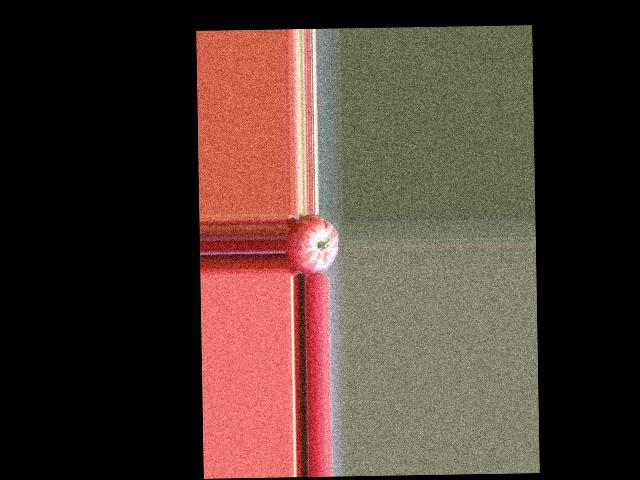tomato: (284, 213, 338, 274)
